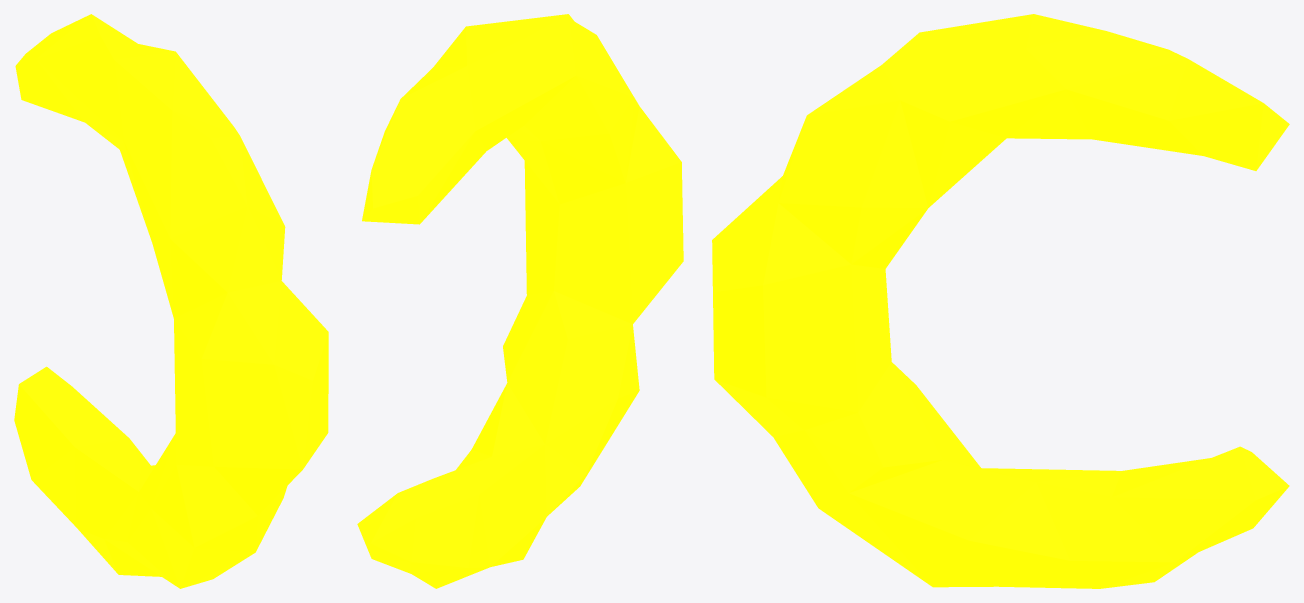
Rendered from moon.glb.
3 views of the same model, side by side, from view 1: azimuth 30°, elevation 25°; view 2: azimuth 150°, elevation 25°; view 3: azimuth 270°, elevation 25° (orthographic). The views are drawn at different scales.
Parts seen in each view (by area): view 1: moon; view 2: moon; view 3: moon.
Boxes of the visible parts, <box> form: moon: <box>14,14,328,588</box>; moon: <box>357,14,683,588</box>; moon: <box>712,14,1289,588</box>.
Bounding box in the file's own units: 0.331 × 1.27 × 1.19.
